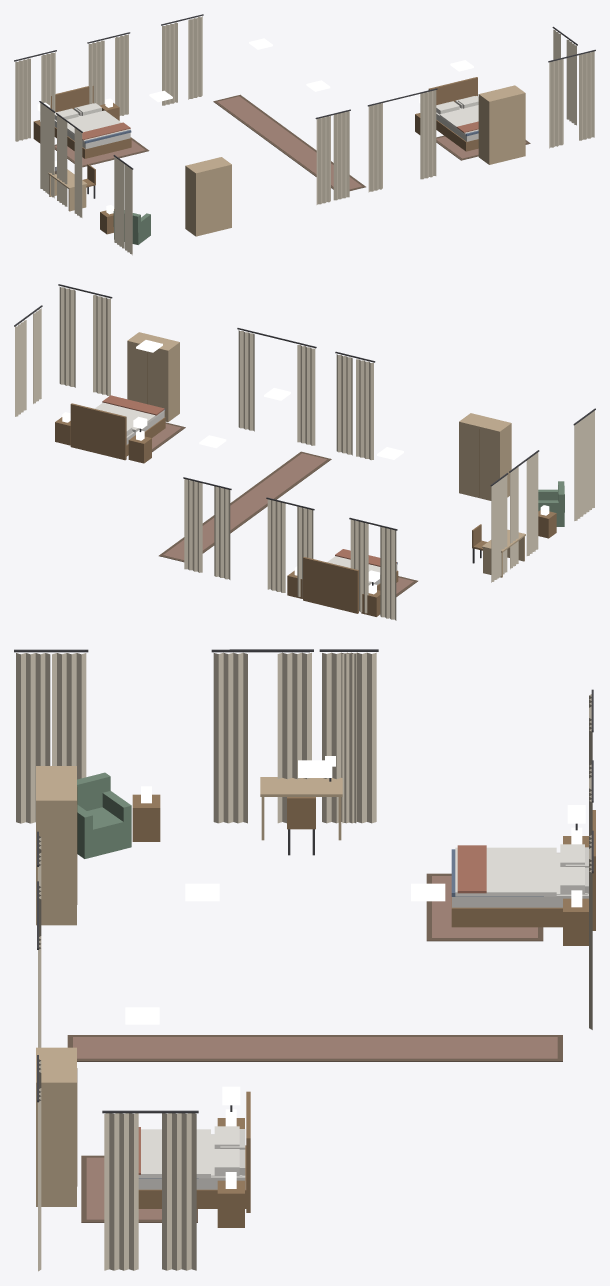
The model's file is fine-s1.glb.
3 views of the same model, one above another, from view 1: azimuth 30°, elevation 25°; view 2: azimuth 150°, elevation 25°; view 3: azimuth 270°, elevation 25° (orthographic). The views are drawn at different scales.
Parts seen in each view (by area): view 1: soft-s1, dresser.000, dresser.001, bed-frame.001, bed-frame.000, writing-desk.000, lounge-chair.000, side-table.000; view 2: soft-s1, dresser.001, dresser.000, bed-frame.000, bed-frame.001, lounge-chair.000, writing-desk.000, nightstand.000, side-table.000, nightstand.002, nightstand.001; view 3: soft-s1, dresser.001, dresser.000, bed-frame.001, lounge-chair.000, bed-frame.000, writing-desk.000, side-table.000, nightstand.001, nightstand.003, cafe-chair.000.
Part boxes in pixels (x1,y1,x2,y2): soft-s1: (14,14,595,255); dresser.000: (478,85,525,164); dresser.001: (185,157,231,236); bed-frame.001: (51,85,131,158); bed-frame.000: (428,77,478,151); writing-desk.000: (48,161,87,211); lounge-chair.000: (113,210,150,244); side-table.000: (100,205,114,234); soft-s1: (14,284,595,620); dresser.001: (459,413,511,500); dresser.000: (127,332,179,421); bed-frame.000: (70,403,165,460); bed-frame.001: (303,557,398,613); lounge-chair.000: (538,481,564,526); writing-desk.000: (482,529,525,577); nightstand.000: (128,430,151,463); side-table.000: (538,505,556,538); nightstand.002: (361,583,380,616); nightstand.001: (55,412,70,445); soft-s1: (14,649,593,1271); dresser.001: (36,766,77,925); dresser.000: (36,1047,77,1206); bed-frame.001: (451,810,595,930); lounge-chair.000: (77,772,131,858); bed-frame.000: (138,1091,250,1212); writing-desk.000: (260,756,342,840); side-table.000: (132,786,160,841); nightstand.001: (217,1172,244,1227); nightstand.003: (563,890,588,945); cafe-chair.000: (287,797,315,855).
Bounding box in the file's own units: 15.55 × 2.81 × 8.47.
